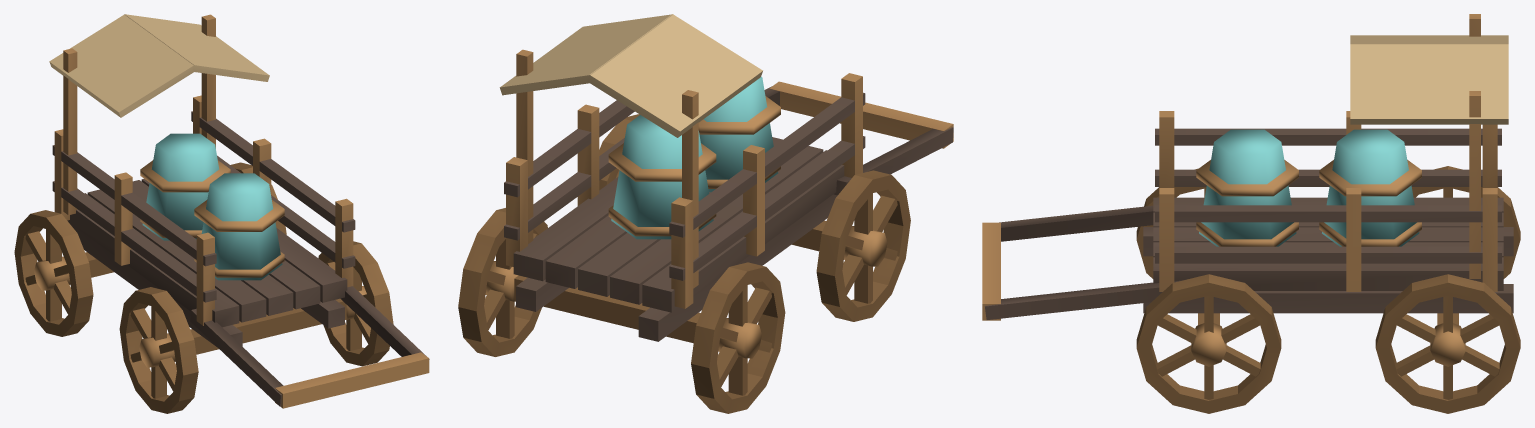
The model's file is cinder-caravan-v1.glb.
3 views of the same model, side by side, from view 1: azimuth 30°, elevation 25°; view 2: azimuth 150°, elevation 25°; view 3: azimuth 270°, elevation 25° (orthographic). The views are drawn at different scales.
Parts seen in each view (by area): view 1: GB_CARAVAN_TIMBER, GB_CARAVAN_COPPER, GB_CARAVAN_CLOTH, GB_CARAVAN_CORE, GB_CARAVAN_WHEEL_L_REAR, GB_CARAVAN_WHEEL_L_FRONT, GB_CARAVAN_WHEEL_R_FRONT; view 2: GB_CARAVAN_TIMBER, GB_CARAVAN_COPPER, GB_CARAVAN_CLOTH, GB_CARAVAN_WHEEL_L_REAR, GB_CARAVAN_WHEEL_L_FRONT, GB_CARAVAN_CORE, GB_CARAVAN_WHEEL_R_REAR, GB_CARAVAN_WHEEL_R_FRONT; view 3: GB_CARAVAN_TIMBER, GB_CARAVAN_COPPER, GB_CARAVAN_CLOTH, GB_CARAVAN_CORE, GB_CARAVAN_WHEEL_R_REAR, GB_CARAVAN_WHEEL_R_FRONT, GB_CARAVAN_WHEEL_L_REAR, GB_CARAVAN_WHEEL_L_FRONT.
Boxes of the visible parts, bbox=[...] form: GB_CARAVAN_TIMBER: bbox=[52, 111, 429, 406]; GB_CARAVAN_COPPER: bbox=[54, 14, 429, 408]; GB_CARAVAN_CLOTH: bbox=[49, 14, 269, 117]; GB_CARAVAN_CORE: bbox=[142, 133, 282, 280]; GB_CARAVAN_WHEEL_L_REAR: bbox=[14, 210, 93, 336]; GB_CARAVAN_WHEEL_L_FRONT: bbox=[119, 287, 198, 413]; GB_CARAVAN_WHEEL_R_FRONT: bbox=[318, 241, 393, 366]; GB_CARAVAN_TIMBER: bbox=[504, 86, 953, 341]; GB_CARAVAN_COPPER: bbox=[506, 49, 953, 343]; GB_CARAVAN_CLOTH: bbox=[499, 14, 762, 137]; GB_CARAVAN_WHEEL_L_REAR: bbox=[691, 262, 785, 413]; GB_CARAVAN_WHEEL_L_FRONT: bbox=[816, 170, 910, 321]; GB_CARAVAN_CORE: bbox=[611, 76, 778, 239]; GB_CARAVAN_WHEEL_R_REAR: bbox=[458, 208, 547, 356]; GB_CARAVAN_WHEEL_R_FRONT: bbox=[599, 114, 639, 190]; GB_CARAVAN_TIMBER: bbox=[984, 128, 1513, 319]; GB_CARAVAN_COPPER: bbox=[982, 14, 1497, 325]; GB_CARAVAN_CLOTH: bbox=[1350, 35, 1508, 124]; GB_CARAVAN_CORE: bbox=[1199, 129, 1419, 246]; GB_CARAVAN_WHEEL_R_REAR: bbox=[1375, 274, 1520, 413]; GB_CARAVAN_WHEEL_R_FRONT: bbox=[1136, 274, 1281, 413]; GB_CARAVAN_WHEEL_L_REAR: bbox=[1412, 166, 1520, 278]; GB_CARAVAN_WHEEL_L_FRONT: bbox=[1136, 168, 1206, 278].
Bounding box in the file's own units: 1.71 × 2.04 × 3.19.
